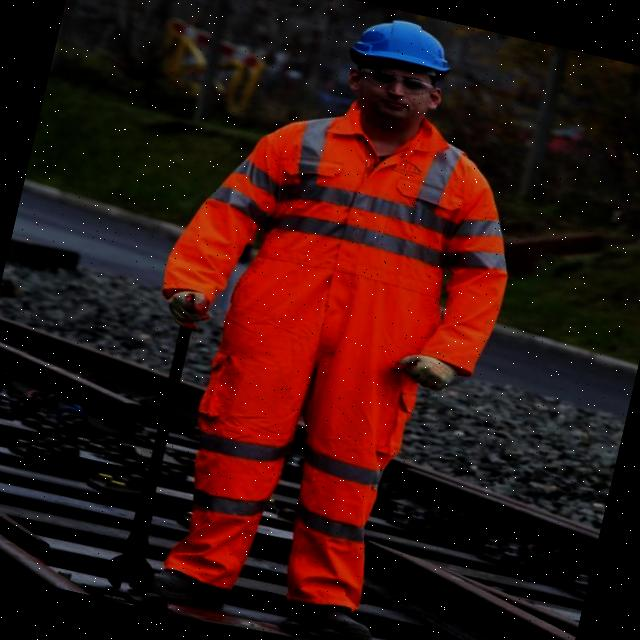boots: (283, 596, 378, 640), (148, 565, 232, 614)
